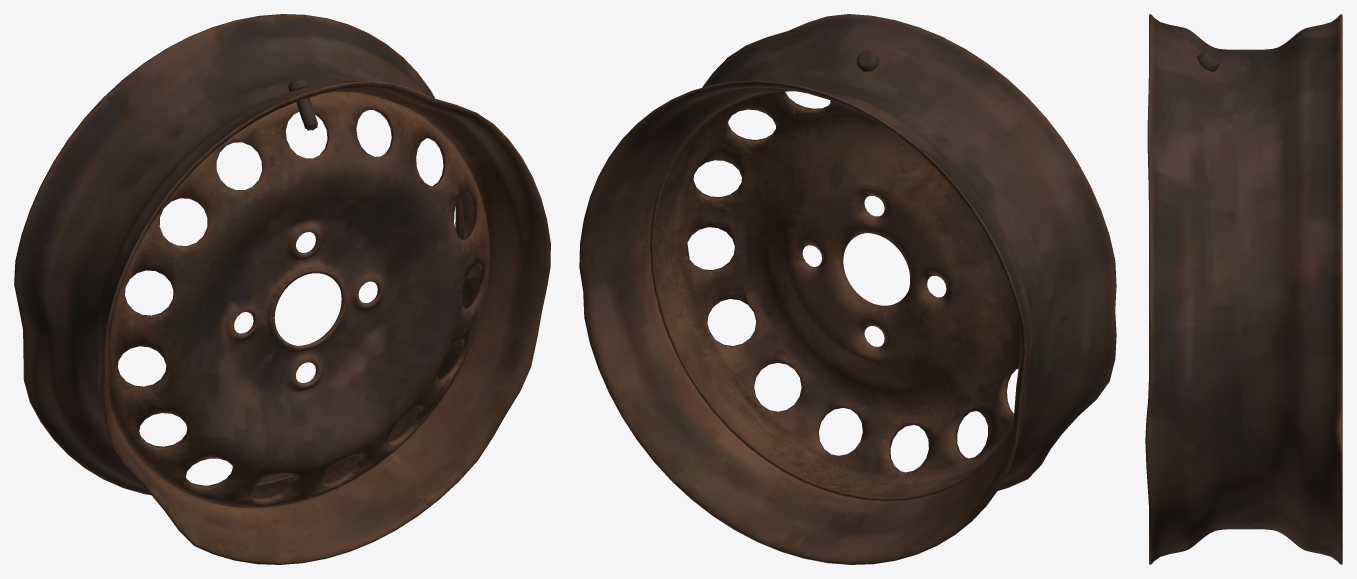
File: rusted_wheel_rim_02.glb
3 renders of one model, left to right at view 1: azimuth 30°, elevation 25°; view 2: azimuth 150°, elevation 25°; view 3: azimuth 270°, elevation 25°, orthographic. The views are drawn at different scales.
Parts seen in each view (by area): view 1: rusted_wheel_rim_02; view 2: rusted_wheel_rim_02; view 3: rusted_wheel_rim_02.
Boxes of the visible parts, x1,y1,x2,y2 form: rusted_wheel_rim_02: [14, 14, 550, 564]; rusted_wheel_rim_02: [579, 14, 1116, 564]; rusted_wheel_rim_02: [1145, 14, 1342, 564].
Bounding box in the file's own units: 0.3355 × 0.3383 × 0.1211.
1 material, 1 textured.
